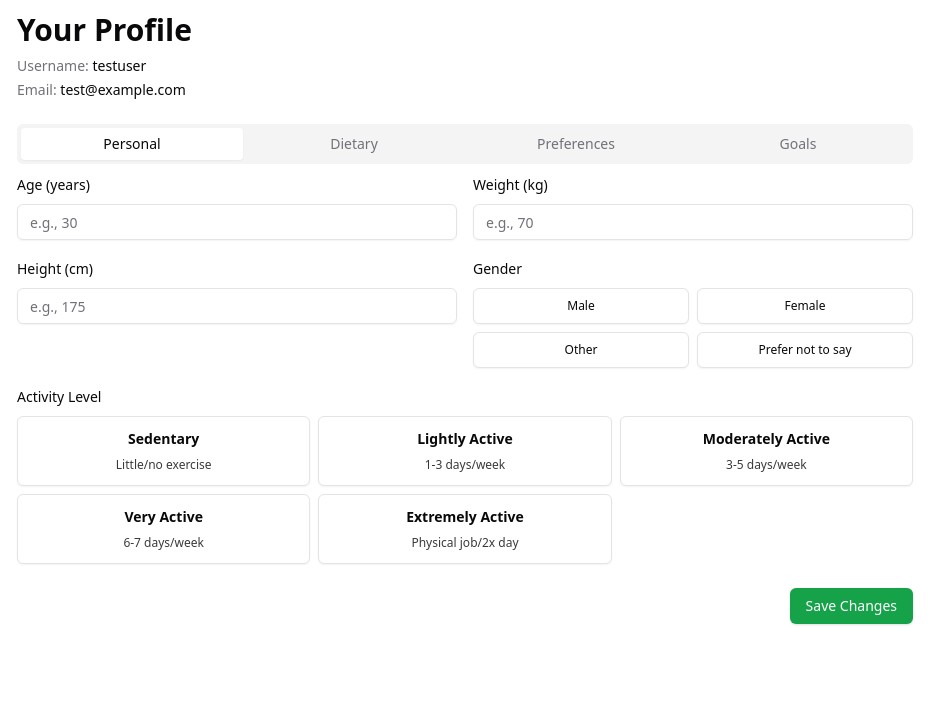
Test: ProfileForm › successfully updates profile with valid data
This screenshot has width=931, height=710.
Expected: the text "testuser" is shown, [92,56,146,75]
# Change age field in the Personal tab (default active tab)
Type "35" into the number field labelled "Age (years)".
click(237, 222); type("35")  # box [17,204,457,240]
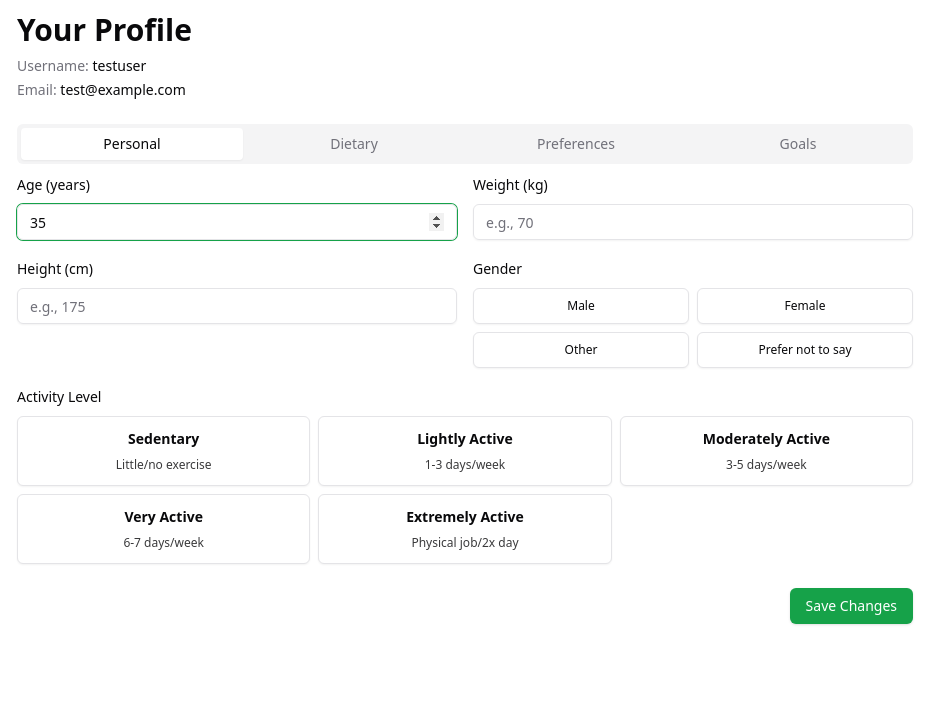
# Submit form
Click the button "Save Changes".
click(851, 606)  # box [790,588,913,624]
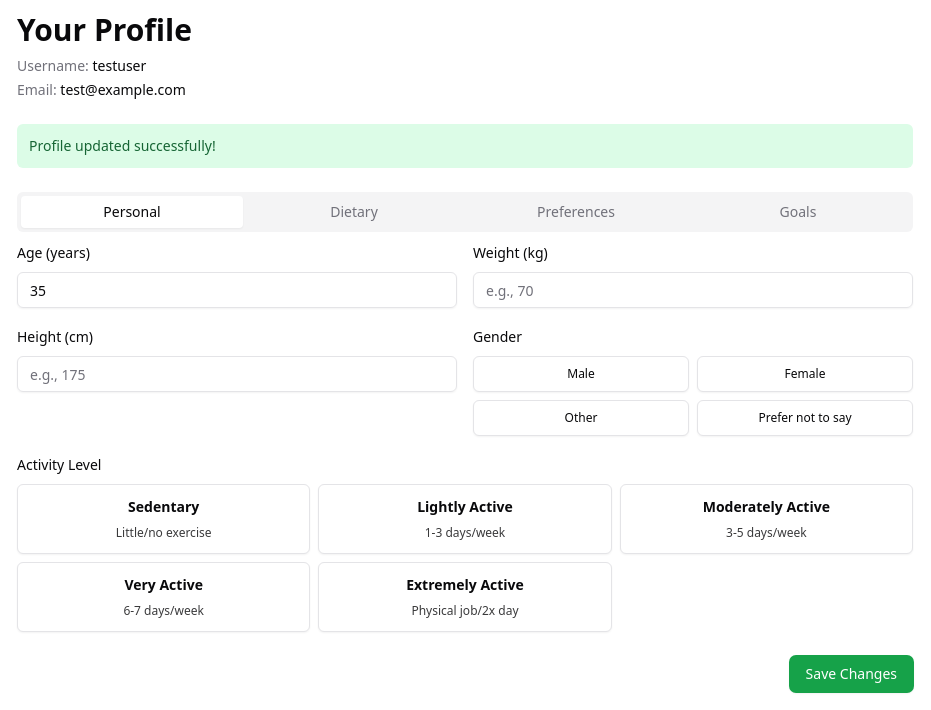
Expected: the text "Profile updated successfully!" is shown, [17,124,913,168]
